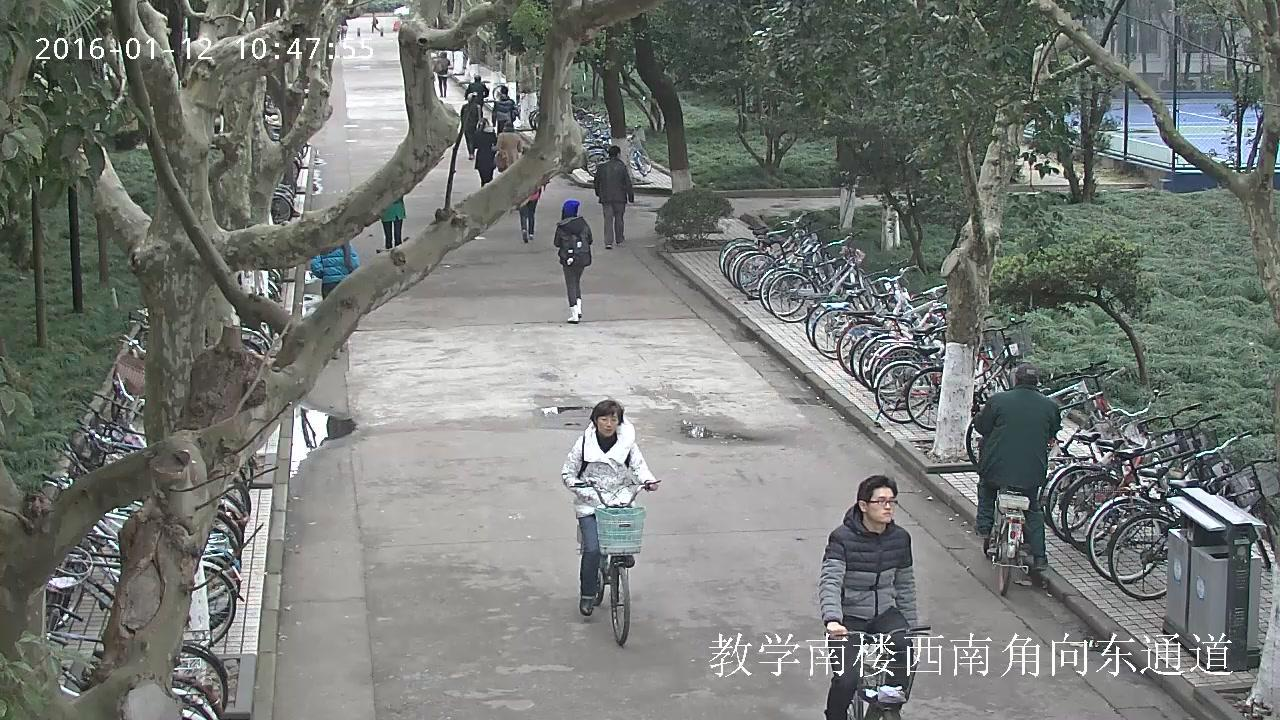person: (819, 474, 931, 720), (561, 398, 660, 647), (819, 474, 918, 720), (964, 362, 1063, 596), (560, 399, 658, 616), (973, 363, 1062, 570), (553, 198, 594, 323), (594, 145, 636, 248), (308, 239, 361, 298), (467, 118, 498, 188), (488, 121, 525, 173), (460, 92, 482, 160), (517, 184, 542, 243), (380, 196, 406, 249), (491, 86, 518, 133), (462, 74, 490, 118), (463, 75, 489, 118), (431, 51, 450, 97), (368, 10, 383, 32)
